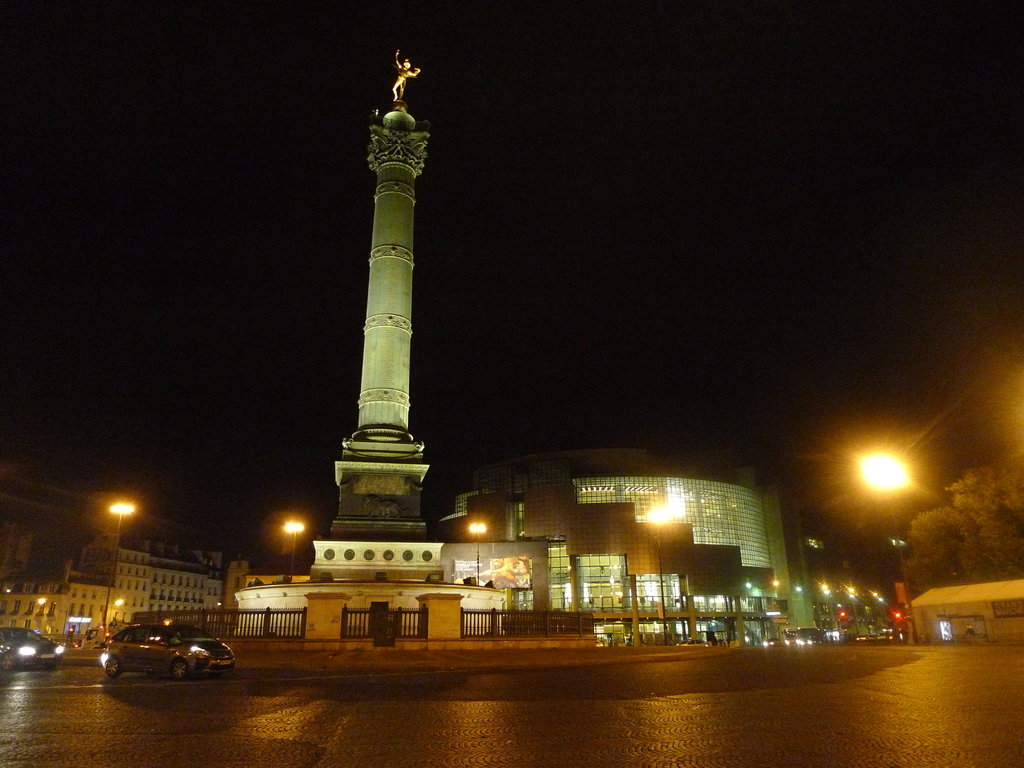mobil: (98, 623, 229, 681), (1, 624, 63, 666)
